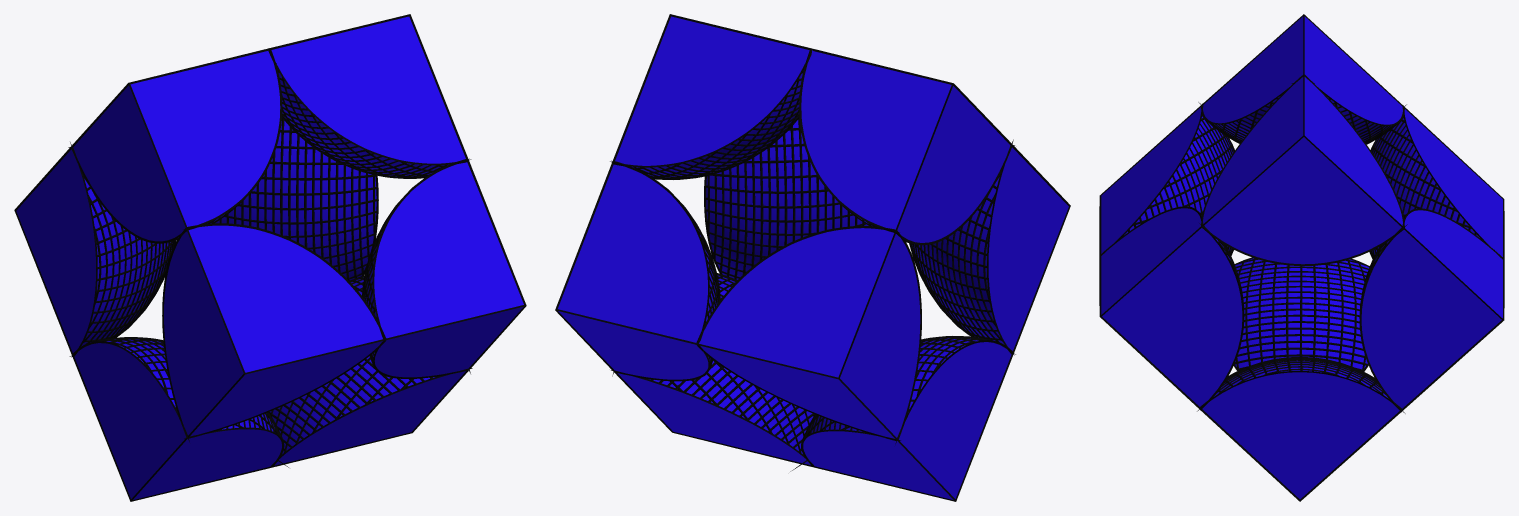
The picture shows the model from 3 angles, left to right: view 1: azimuth 30°, elevation 25°; view 2: azimuth 150°, elevation 25°; view 3: azimuth 270°, elevation 25°; orthographic projection. The views are drawn at different scales.
Parts seen in each view (by area): view 1: Sphere.008; view 2: Sphere.008; view 3: Sphere.008.
Part boxes in pixels (x1,y1,x2,y2): Sphere.008: [14, 14, 526, 501]; Sphere.008: [555, 14, 1070, 501]; Sphere.008: [1099, 14, 1504, 501].
Size of the model in its own units: 2.07 by 2.84 by 2.84.
